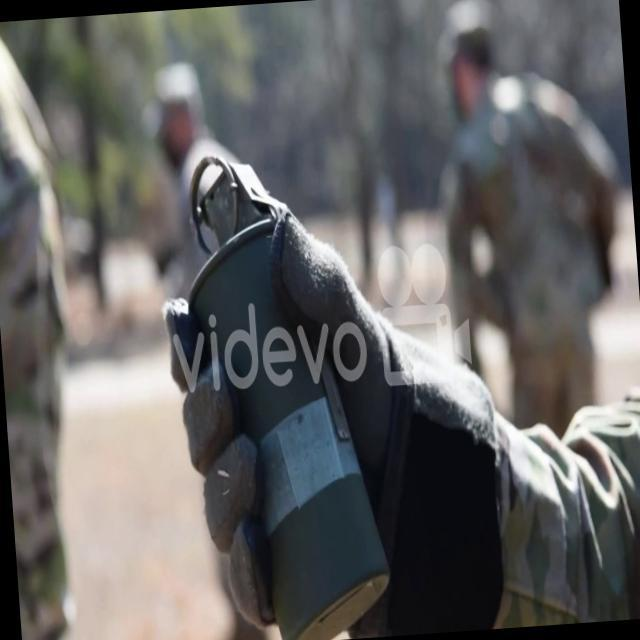grenade: (161, 136, 396, 640)
